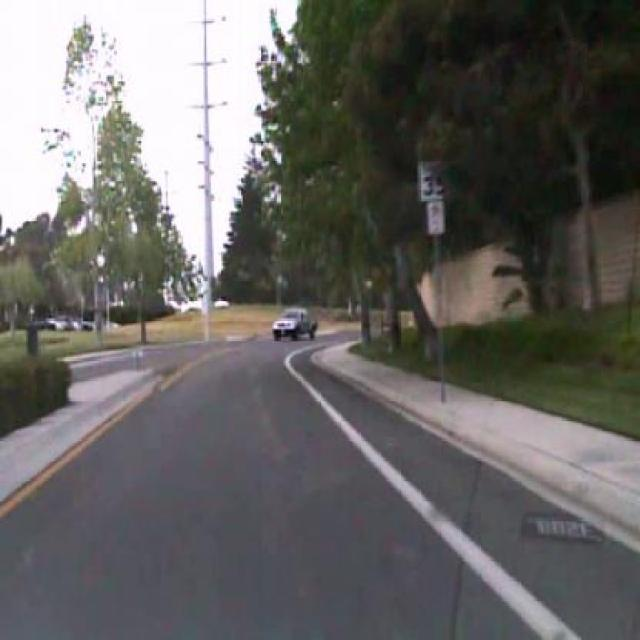speedLimit35: (417, 144, 450, 200)
